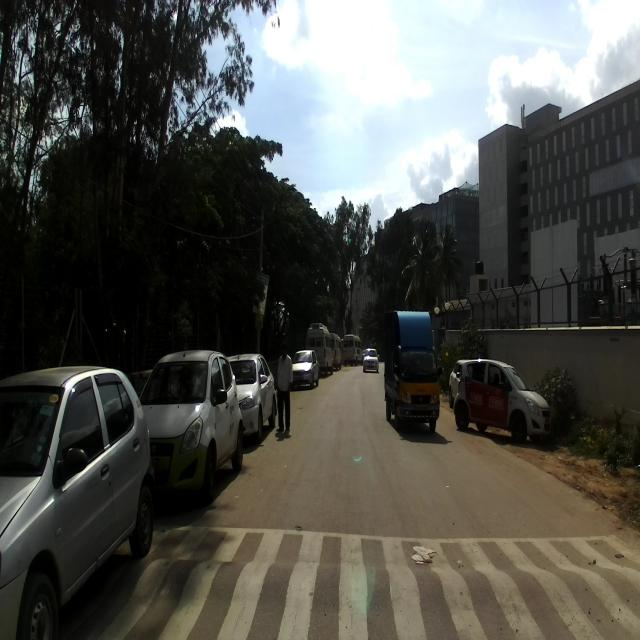car: (0, 364, 154, 636), (138, 350, 243, 503), (453, 357, 551, 446)
truck: (384, 307, 441, 436)
